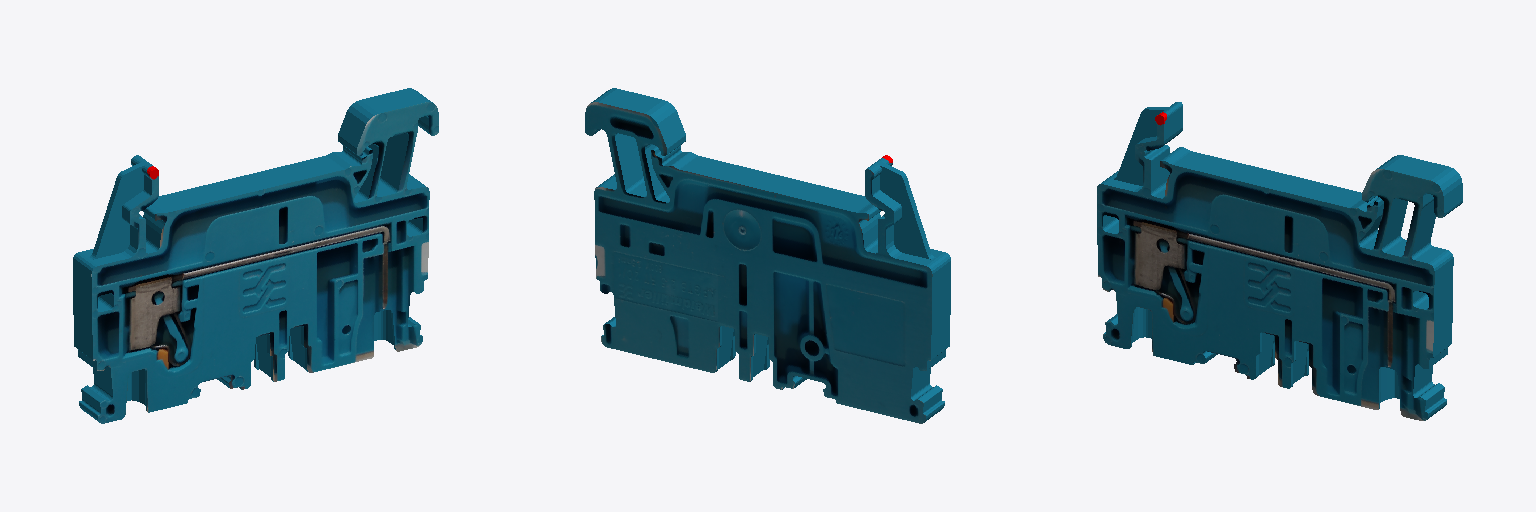
3 renders of one model, left to right at view 1: azimuth 30°, elevation 25°; view 2: azimuth 150°, elevation 25°; view 3: azimuth 330°, elevation 25°, orthographic.
Visible parts, largest first — view 1: [number redacted]_[number redacted].004; view 2: [number redacted]_[number redacted].004; view 3: [number redacted]_[number redacted].004.
Part boxes in pixels (x1,y1,x2,y2): [number redacted]_[number redacted].004: (73, 88, 438, 423); [number redacted]_[number redacted].004: (585, 88, 950, 423); [number redacted]_[number redacted].004: (1097, 102, 1462, 420).
Bounding box in the file's own units: 0.0542 × 0.0362 × 0.0051.
Materials: 1 (1 with a texture image).